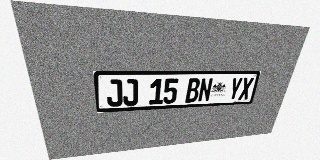1: (149, 79, 164, 105)
5: (163, 78, 178, 104)
B: (185, 78, 201, 103)
J: (106, 79, 123, 107), (122, 79, 138, 106)
N: (197, 78, 213, 102)
X: (238, 77, 254, 100)
Y: (227, 78, 243, 100)
